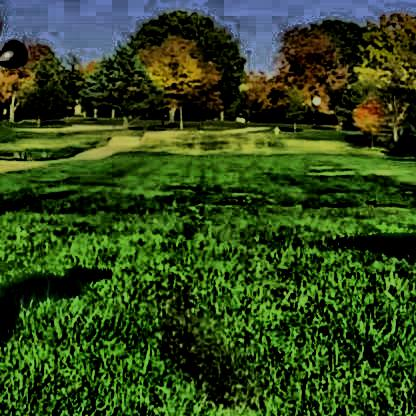golfball: (309, 93, 319, 105)
